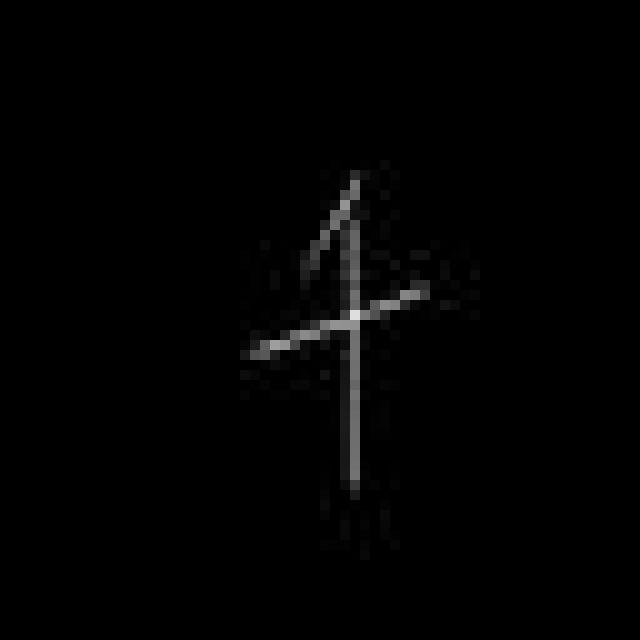1000 -a thousand-: (233, 157, 438, 496)
